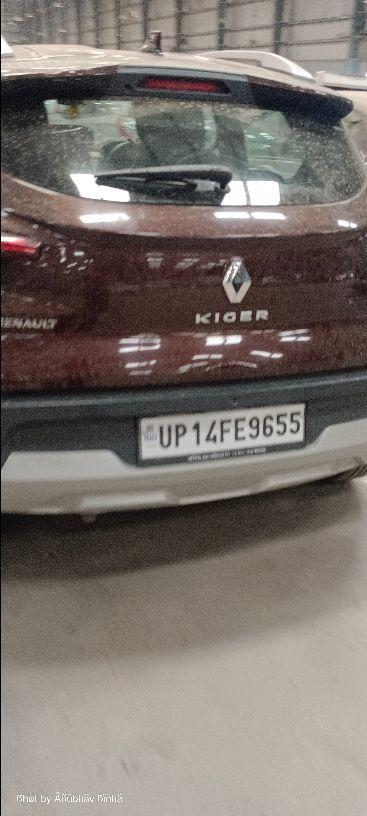license_plate: (135, 400, 307, 464)
